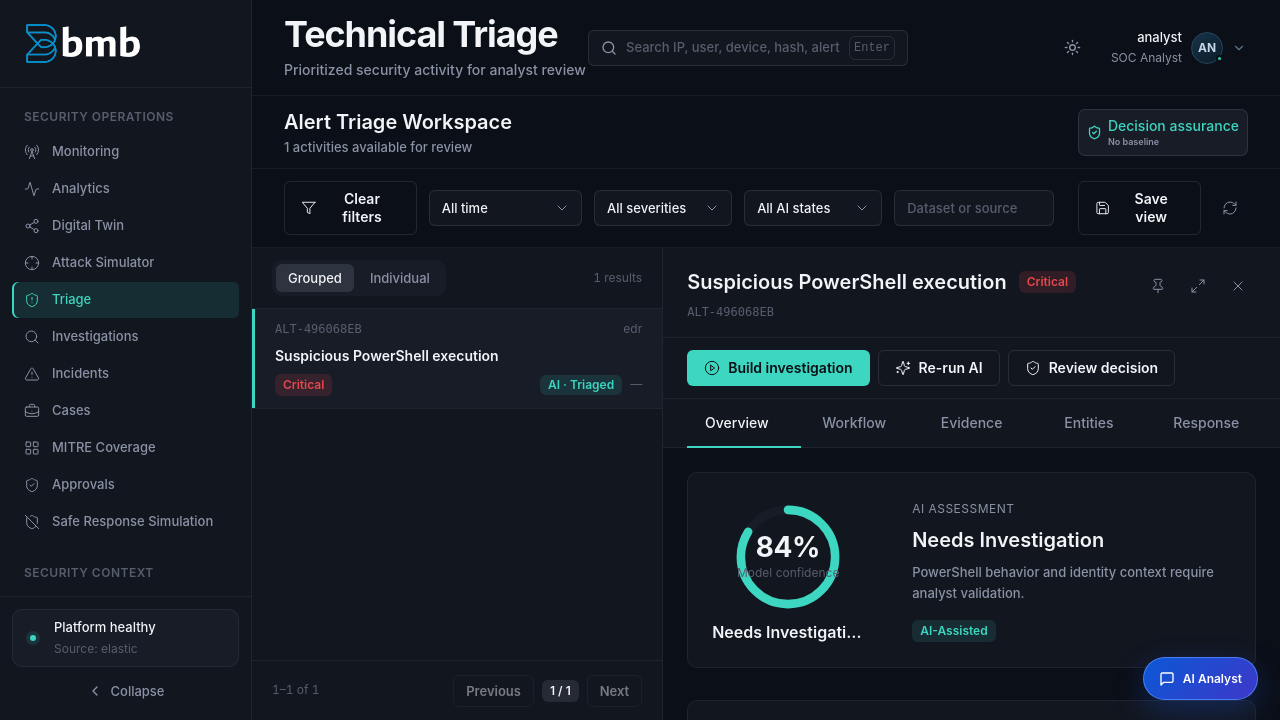
Test: authenticated application flows › explains the recorded AI triage decision without inferring missing workflow stages
The image size is (1280, 720).
Expected: the text with class "ui-status-chip" shows "Triaged", [570,377,614,392]
Click the tab "Workflow": (854, 423) [804,399,904,447]
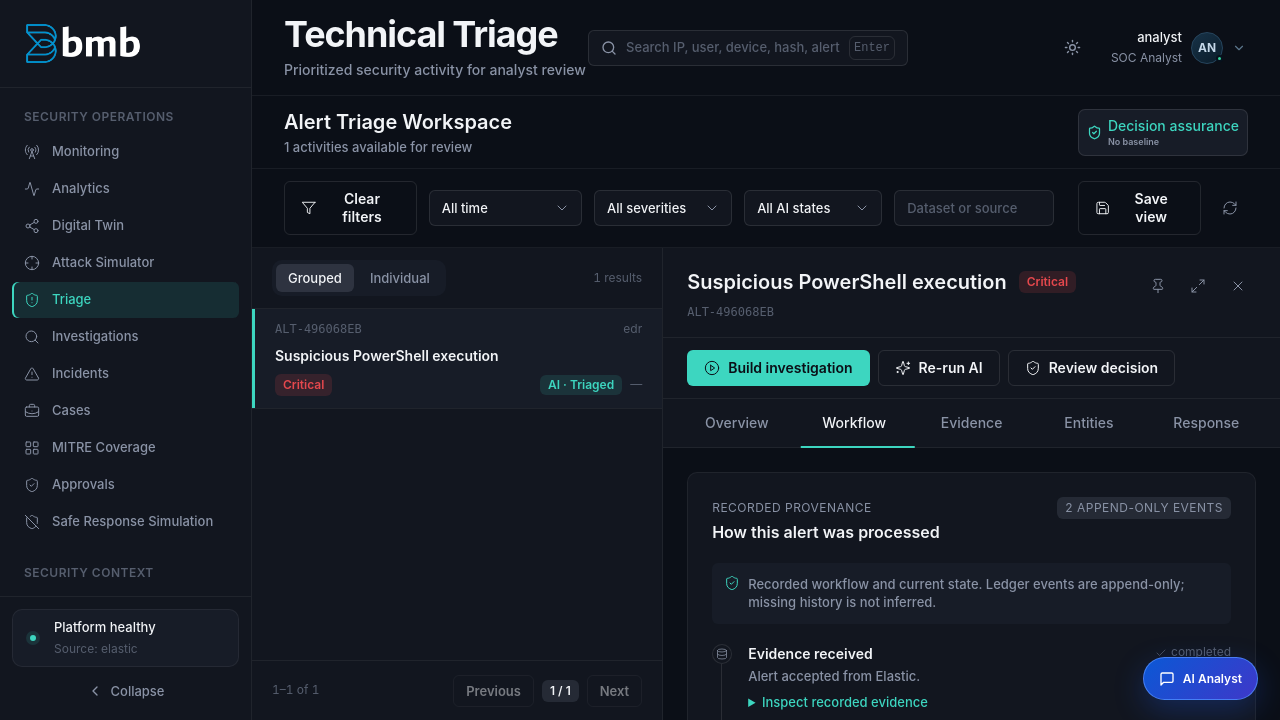
Expected: the text "How this alert was processed" is shown, [712,521,940,543]
Expected: the text "2 append-only events" is shown, [1057,497,1231,519]
Expected: the text "Recorded workflow and current state" is shown, [748,576,1185,610]
